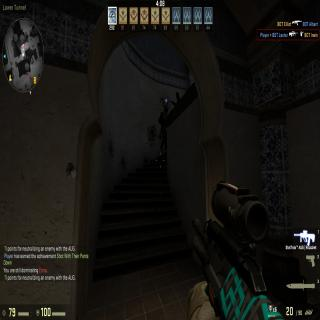CT-Body: (158, 104, 170, 151)
CT-Head: (163, 103, 170, 113)
T-Head: (174, 91, 180, 102)
